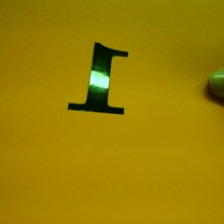orange1: (65, 35, 130, 120)
